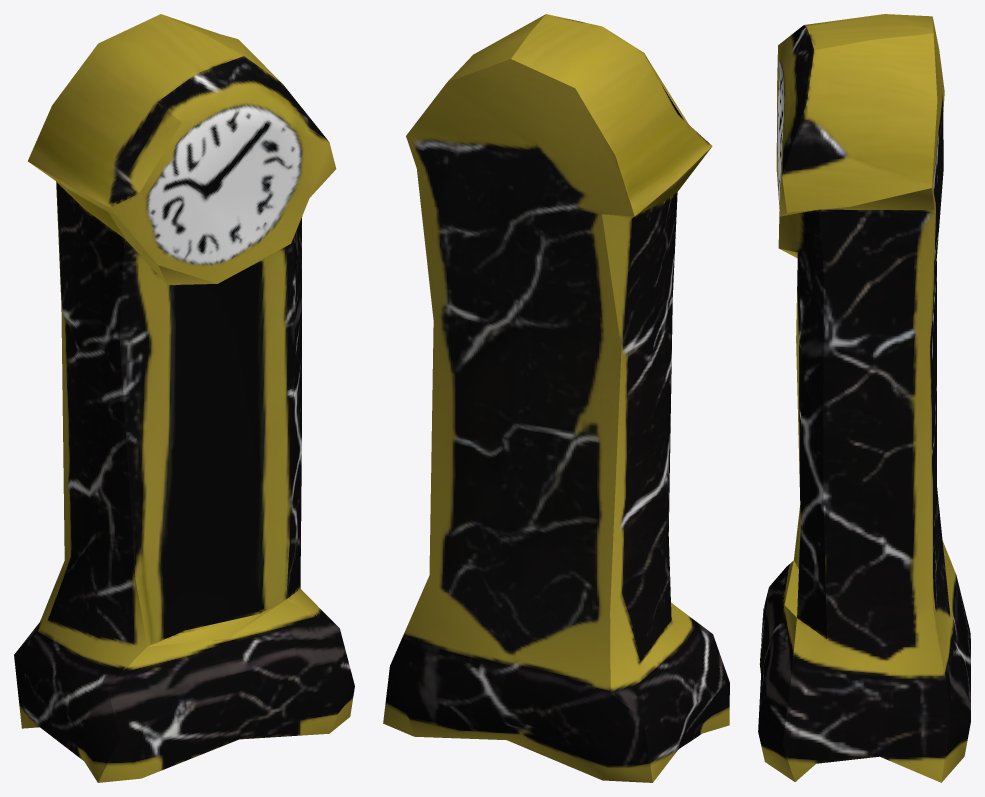
Rendered from penthouse-deco-clock.glb.
3 views of the same model, side by side, from view 1: azimuth 30°, elevation 25°; view 2: azimuth 150°, elevation 25°; view 3: azimuth 270°, elevation 25° (orthographic).
Parts seen in each view (by area): view 1: geometry_0; view 2: geometry_0; view 3: geometry_0.
Boxes of the visible parts, x1,y1,x2,y2 form: geometry_0: [14, 14, 354, 782]; geometry_0: [383, 14, 729, 782]; geometry_0: [758, 14, 970, 782].
Size of the model in its own units: 0.4122 by 1 by 0.2797.
1 material, 1 textured.
